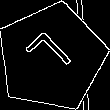L_SE: (23, 28, 80, 86)
